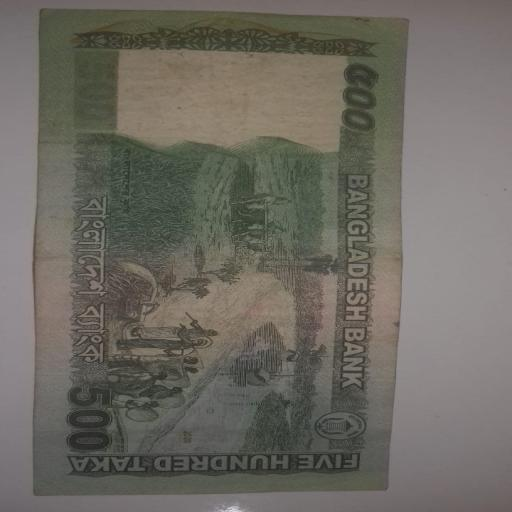500taka: (33, 10, 407, 495)
